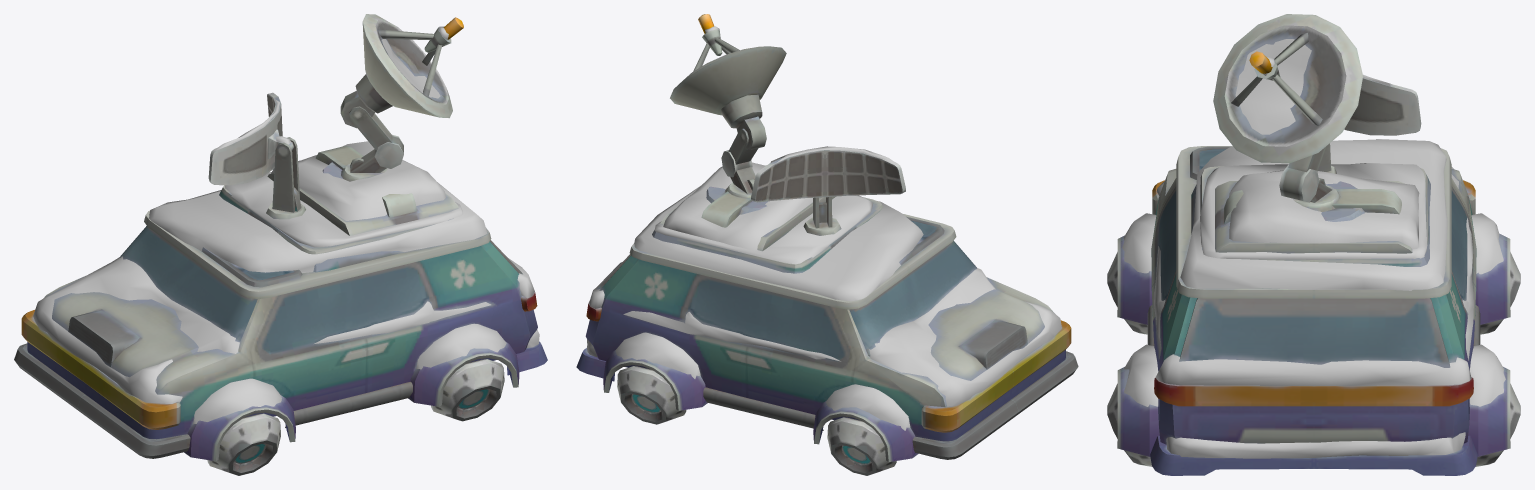
The model's file is pref_sm_city_car01_snow_lv3.fbx.
3 views of the same model, side by side, from view 1: azimuth 30°, elevation 25°; view 2: azimuth 150°, elevation 25°; view 3: azimuth 270°, elevation 25° (orthographic). The views are drawn at different scales.
Visible parts, largest first — view 1: sm_city_car01_snow_lv3, sm_city_car01b_snow_lv3; view 2: sm_city_car01_snow_lv3, sm_city_car01b_snow_lv3; view 3: sm_city_car01_snow_lv3, sm_city_car01b_snow_lv3.
Boxes of the visible parts, box(x1,y1,x2,y2) form: sm_city_car01_snow_lv3: box(14, 14, 547, 475); sm_city_car01b_snow_lv3: box(33, 26, 539, 424); sm_city_car01_snow_lv3: box(576, 14, 1078, 475); sm_city_car01b_snow_lv3: box(587, 26, 1061, 430); sm_city_car01_snow_lv3: box(1107, 14, 1520, 475); sm_city_car01b_snow_lv3: box(1122, 39, 1505, 458).
Size of the model in its own units: 5.34 by 4.46 by 3.87.
